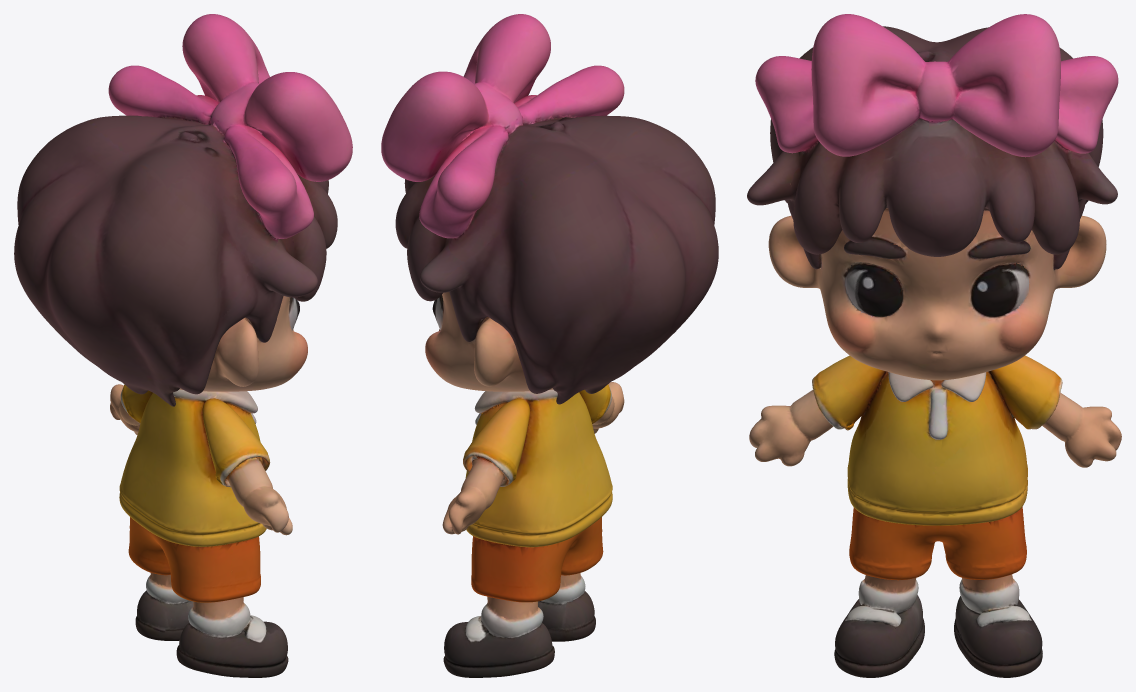
The model's file is character-boy-bow.glb.
The picture shows the model from 3 angles, left to right: view 1: azimuth 30°, elevation 25°; view 2: azimuth 150°, elevation 25°; view 3: azimuth 270°, elevation 25°; orthographic projection. The views are drawn at different scales.
Parts seen in each view (by area): view 1: tripo_node_c21dc260-a905-47ad-8633-914d2afbcde4; view 2: tripo_node_c21dc260-a905-47ad-8633-914d2afbcde4; view 3: tripo_node_c21dc260-a905-47ad-8633-914d2afbcde4.
Part boxes in pixels (left/top/right/bottom): tripo_node_c21dc260-a905-47ad-8633-914d2afbcde4: left=14, top=14, right=352, bottom=677; tripo_node_c21dc260-a905-47ad-8633-914d2afbcde4: left=381, top=14, right=718, bottom=677; tripo_node_c21dc260-a905-47ad-8633-914d2afbcde4: left=747, top=14, right=1121, bottom=677.
Size of the model in its own units: 0.5018 by 1 by 0.5125.
Materials: 1 (1 with a texture image).
